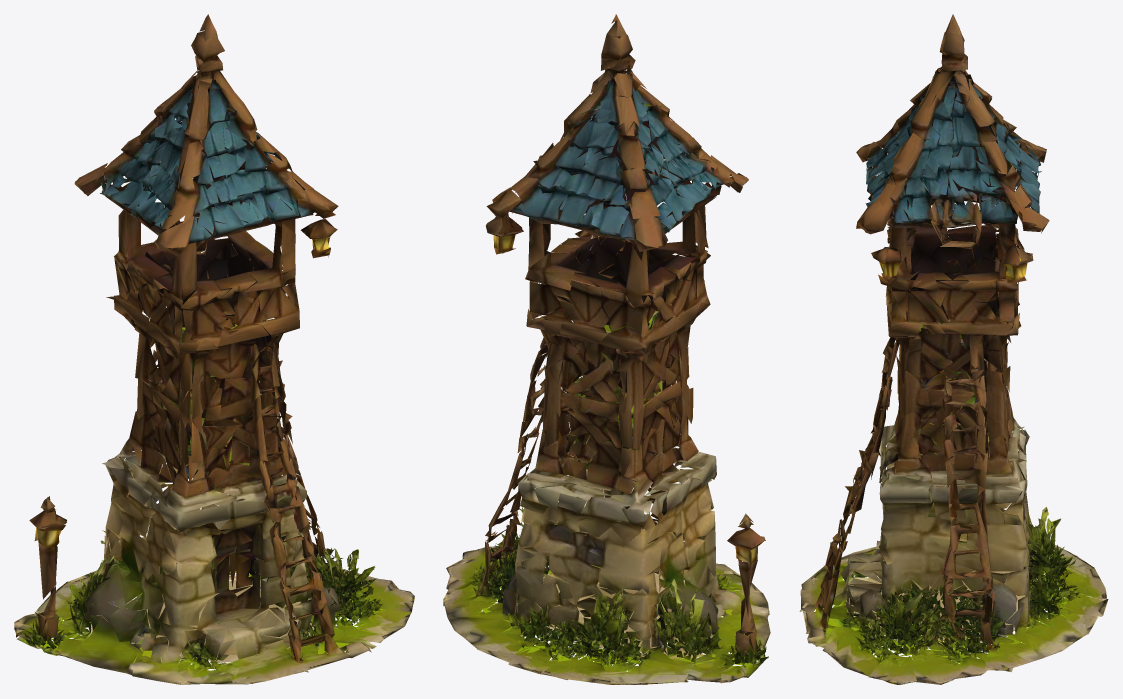
Rendered from Watchtower_T1_town.glb.
The picture shows the model from 3 angles, left to right: view 1: azimuth 30°, elevation 25°; view 2: azimuth 150°, elevation 25°; view 3: azimuth 270°, elevation 25°; orthographic projection. The views are drawn at different scales.
Parts seen in each view (by area): view 1: Watchtower_T1; view 2: Watchtower_T1; view 3: Watchtower_T1.
Part boxes in pixels (x1=…): Watchtower_T1: x1=14, y1=14, x2=414, y2=684; Watchtower_T1: x1=443, y1=14, x2=770, y2=684; Watchtower_T1: x1=799, y1=14, x2=1108, y2=684.
Size of the model in its own units: 1.14 by 1.92 by 0.9074.
Materials: 1 (1 with a texture image).
